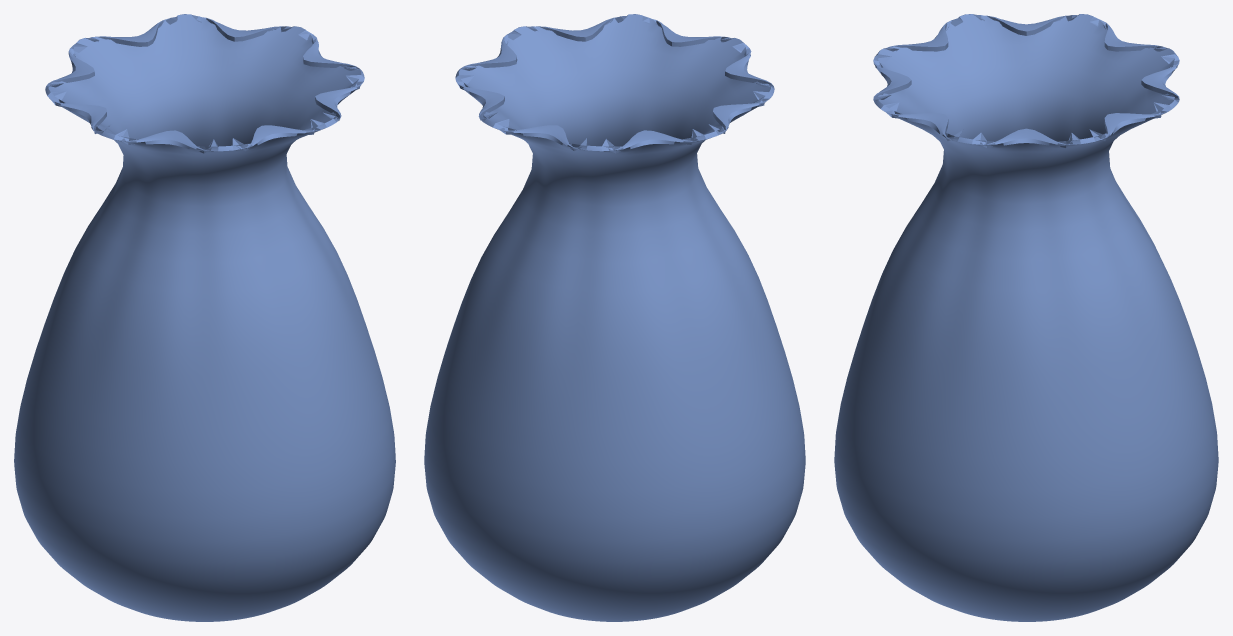
Rendered from pocket (5).fbx.
3 renders of one model, left to right at view 1: azimuth 30°, elevation 25°; view 2: azimuth 150°, elevation 25°; view 3: azimuth 270°, elevation 25°, orthographic.
Parts seen in each view (by area): view 1: Pocket; view 2: Pocket; view 3: Pocket.
Boxes of the visible parts, bbox=[...] form: Pocket: bbox=[14, 14, 395, 621]; Pocket: bbox=[424, 14, 805, 621]; Pocket: bbox=[834, 14, 1218, 621].
Size of the model in its own units: 387 by 574 by 387.
